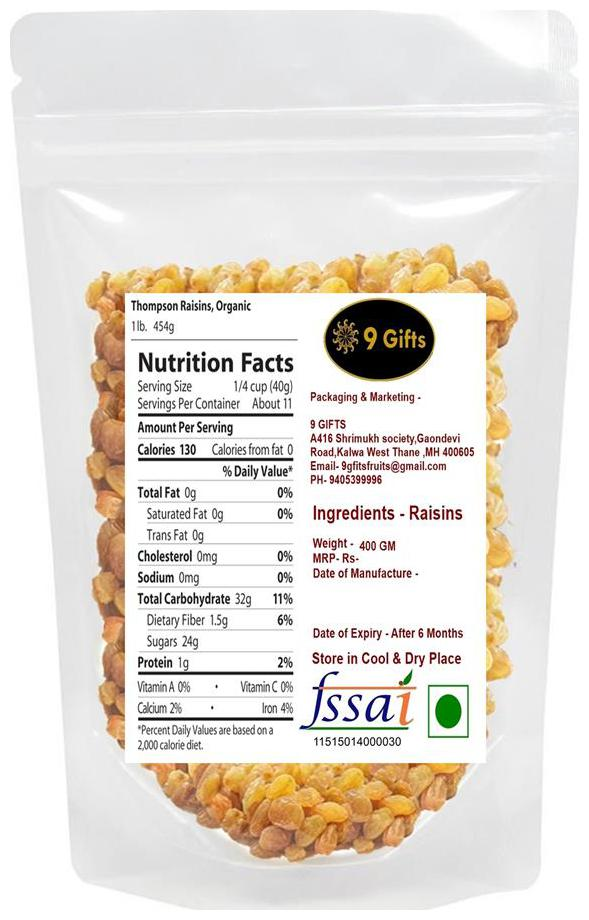fssai: (298, 670, 418, 731)
